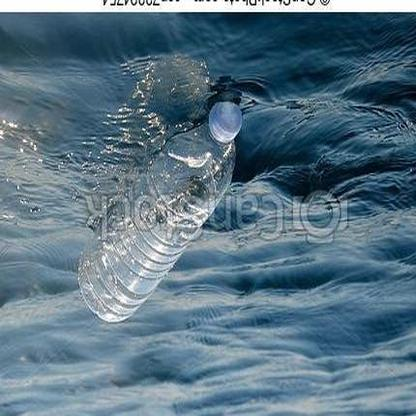plastic bottle: (78, 101, 244, 323)
